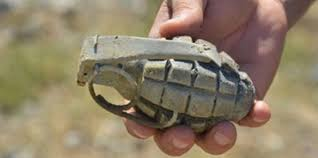e1: (75, 34, 255, 132)
